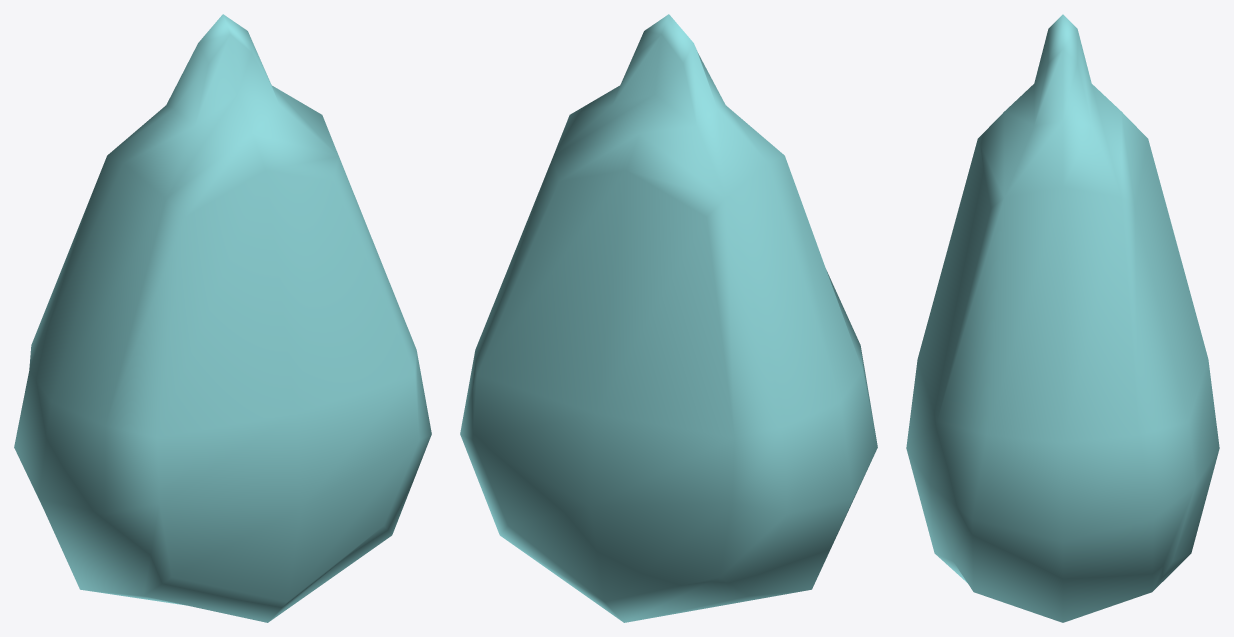
Rendered from cometPlant_seed.fbx.
The picture shows the model from 3 angles, left to right: view 1: azimuth 30°, elevation 25°; view 2: azimuth 150°, elevation 25°; view 3: azimuth 270°, elevation 25°; orthographic projection.
Visible parts, largest first — view 1: seed_comet; view 2: seed_comet; view 3: seed_comet.
Part boxes in pixels (bbox=[...]): seed_comet: bbox=[14, 14, 431, 622]; seed_comet: bbox=[460, 14, 877, 622]; seed_comet: bbox=[906, 14, 1219, 622].
Size of the model in its own units: 7.89 by 12.22 by 5.83.
